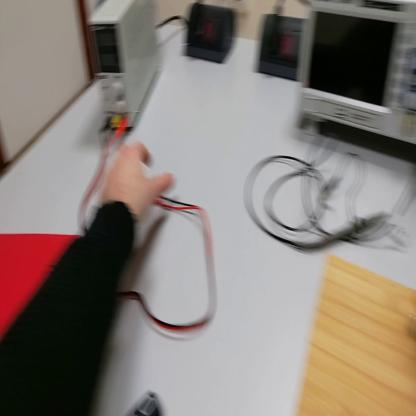hand: (98, 141, 174, 220)
oscilloscope: (299, 5, 416, 150)
oscilloscope probe tip: (305, 214, 387, 254)
power supply: (89, 4, 162, 128)
register: (2, 234, 83, 344)
socket: (255, 13, 304, 81), (185, 5, 238, 65)
working area: (298, 255, 416, 415)
